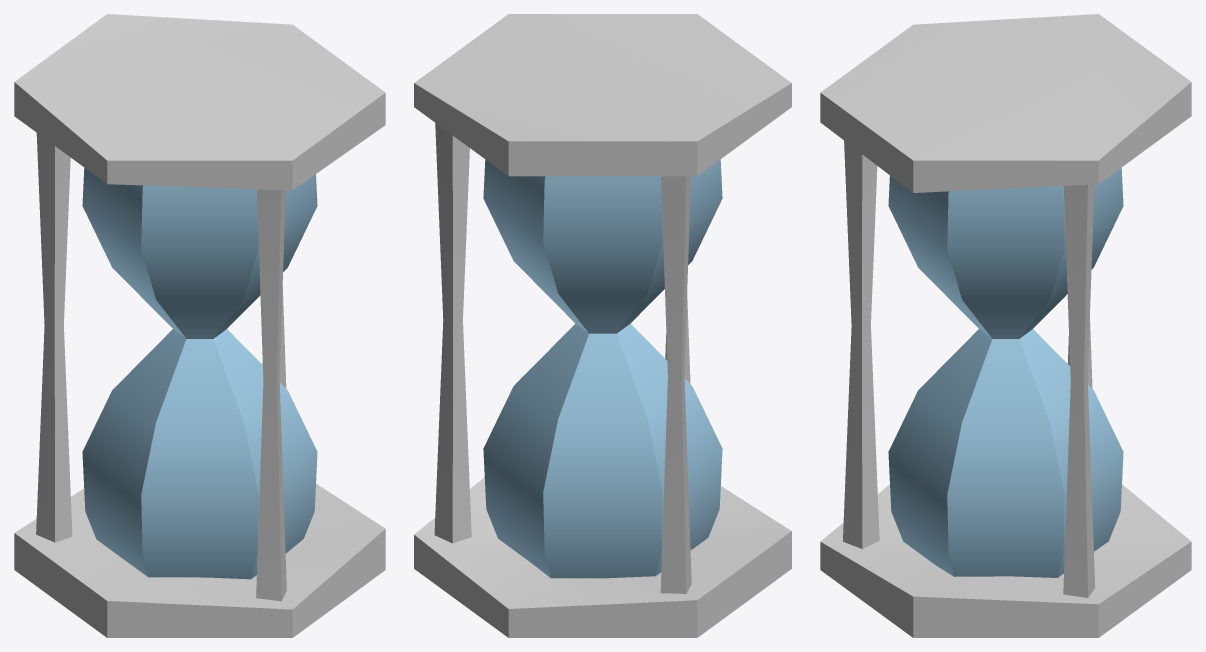
File: Hourglass.fbx
3 views of the same model, side by side, from view 1: azimuth 30°, elevation 25°; view 2: azimuth 150°, elevation 25°; view 3: azimuth 270°, elevation 25° (orthographic).
Visible parts, largest first — view 1: hourglass, hourglass_glass; view 2: hourglass, hourglass_glass; view 3: hourglass, hourglass_glass.
Boxes of the visible parts, x1,y1,x2,y2 form: hourglass: (14,14,385,637); hourglass_glass: (82,168,317,579); hourglass: (414,14,791,637); hourglass_glass: (483,159,722,578); hourglass: (820,14,1191,637); hourglass_glass: (888,168,1123,577).
Bounding box in the file's own units: 16.4 × 27.47 × 18.94.
